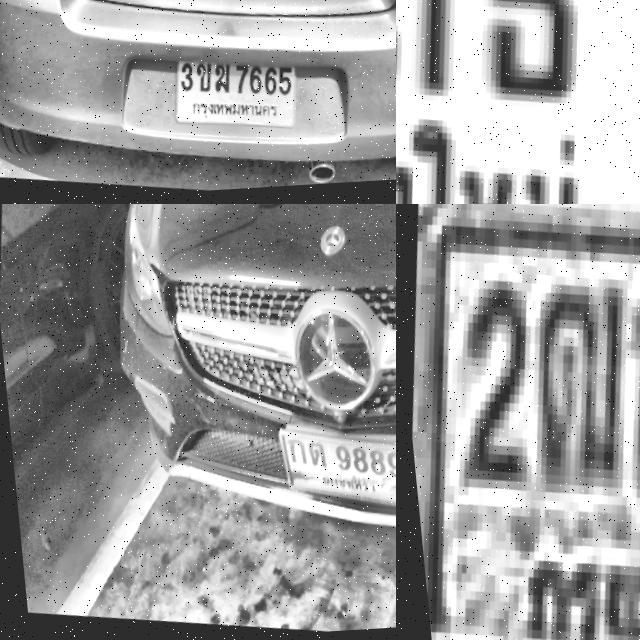license-plate: (396, 204, 640, 640), (396, 0, 640, 204), (255, 419, 396, 527), (157, 51, 294, 141)
